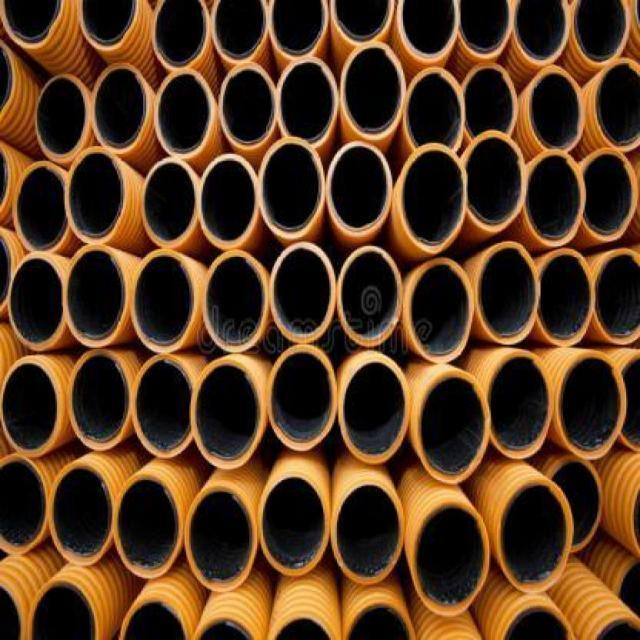pipe: (410, 501, 490, 617), (498, 478, 574, 595), (417, 371, 489, 483), (184, 484, 258, 592), (397, 143, 468, 254), (191, 359, 262, 470), (330, 479, 404, 585), (339, 356, 411, 464), (266, 347, 339, 452), (557, 352, 627, 460), (486, 349, 554, 460), (112, 474, 183, 580), (259, 471, 330, 576), (256, 137, 326, 239), (406, 258, 474, 363), (66, 348, 133, 452), (48, 461, 115, 565), (270, 242, 337, 344), (462, 129, 527, 233), (476, 241, 541, 345), (202, 249, 267, 353), (130, 249, 195, 353), (63, 243, 127, 348), (339, 41, 406, 140), (339, 245, 404, 347), (132, 354, 195, 459), (0, 356, 63, 458), (327, 141, 392, 237), (64, 146, 127, 245), (523, 148, 586, 247), (197, 153, 259, 250), (277, 56, 340, 149), (7, 253, 66, 352), (536, 249, 596, 346), (154, 69, 215, 160), (547, 457, 604, 554), (90, 62, 150, 153), (404, 66, 466, 154), (13, 161, 70, 254), (582, 149, 638, 242), (219, 61, 278, 149), (140, 157, 197, 248), (34, 74, 90, 163), (529, 66, 586, 151), (462, 62, 519, 143), (0, 454, 46, 554), (593, 249, 640, 346), (26, 577, 98, 639), (151, 0, 211, 71), (395, 0, 460, 64), (596, 57, 639, 152), (208, 0, 267, 64), (513, 0, 570, 66), (572, 0, 629, 64), (267, 0, 329, 58), (607, 352, 640, 453), (116, 597, 193, 640), (457, 0, 514, 58), (77, 0, 139, 52), (0, 0, 64, 50), (330, 1, 395, 46), (345, 603, 417, 640), (498, 606, 574, 640), (267, 617, 338, 640), (187, 620, 258, 640), (0, 583, 23, 640), (589, 617, 640, 640)
